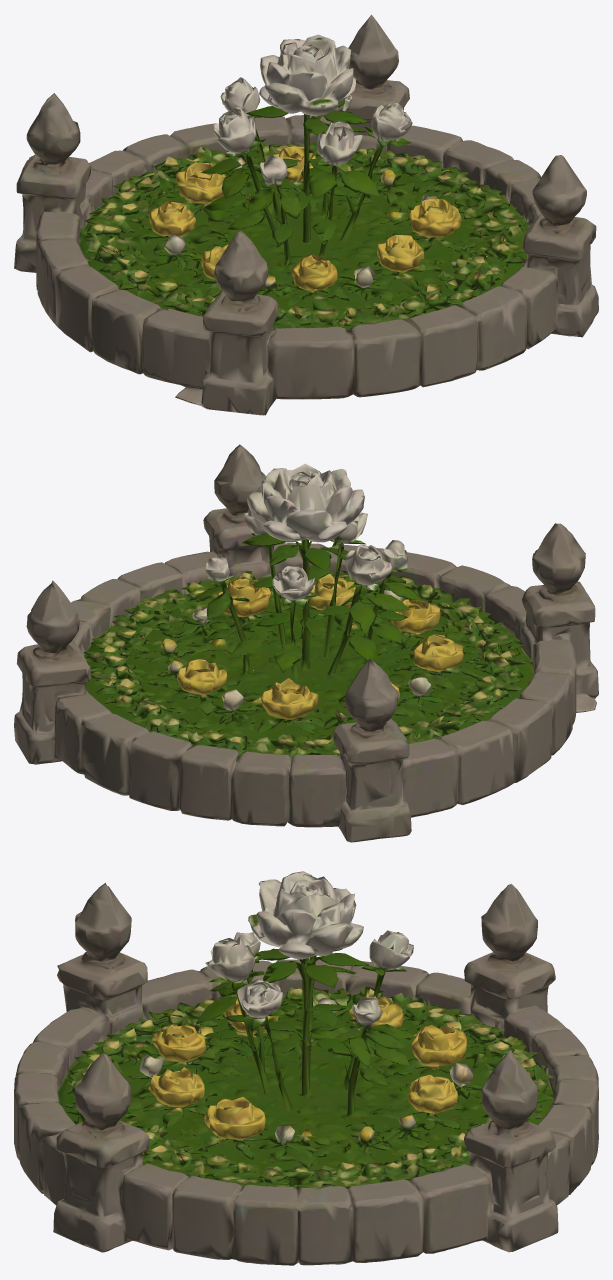
Rendered from flower_bed_round.glb.
3 renders of one model, top to bottom at view 1: azimuth 30°, elevation 25°; view 2: azimuth 150°, elevation 25°; view 3: azimuth 270°, elevation 25°, orthographic. The views are drawn at different scales.
Visible parts, largest first — view 1: tripo_node_1523cf4e-816d-44da-9db4-2b00bd25688d; view 2: tripo_node_1523cf4e-816d-44da-9db4-2b00bd25688d; view 3: tripo_node_1523cf4e-816d-44da-9db4-2b00bd25688d.
Part boxes in pixels (x1,y1,x2,y2): tripo_node_1523cf4e-816d-44da-9db4-2b00bd25688d: (14,14,598,415); tripo_node_1523cf4e-816d-44da-9db4-2b00bd25688d: (14,444,598,842); tripo_node_1523cf4e-816d-44da-9db4-2b00bd25688d: (14,871,598,1265).
Size of the model in its own units: 0.9803 by 0.5066 by 0.9792.
1 material, 1 textured.
